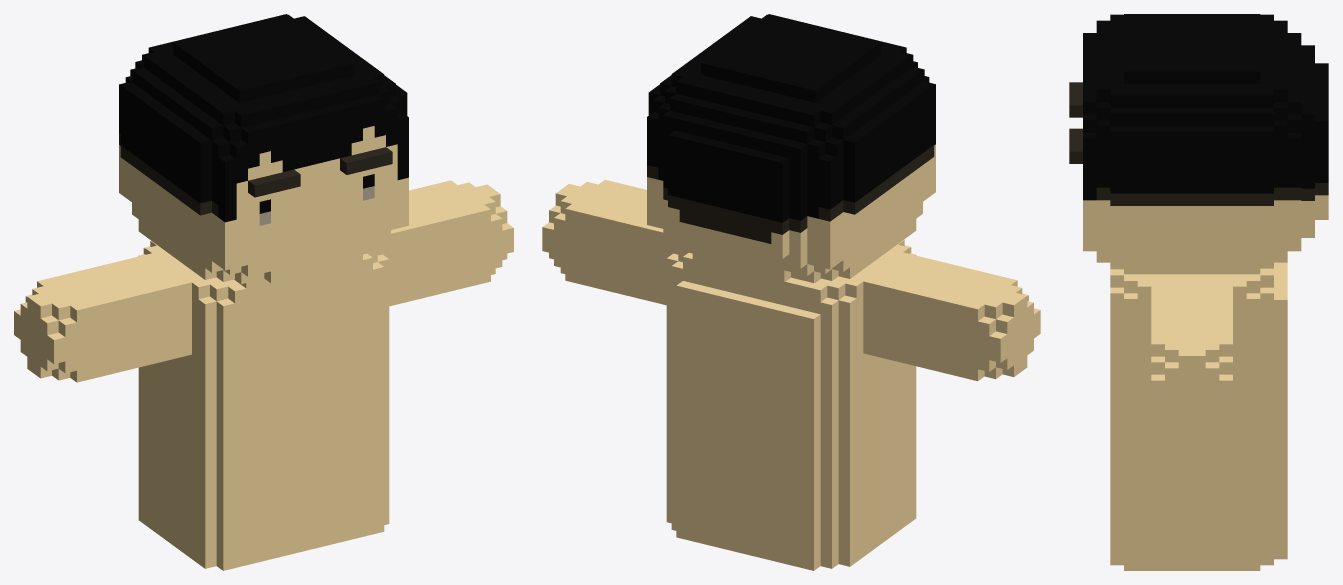
The model's file is saigo.glb.
3 renders of one model, left to right at view 1: azimuth 30°, elevation 25°; view 2: azimuth 150°, elevation 25°; view 3: azimuth 270°, elevation 25°, orthographic. The views are drawn at different scales.
Parts seen in each view (by area): view 1: Untitled; view 2: Untitled; view 3: Untitled.
Boxes of the visible parts, x1=… form: Untitled: x1=14, y1=14, x2=513, y2=570; Untitled: x1=542, y1=14, x2=1040, y2=570; Untitled: x1=1069, y1=14, x2=1328, y2=570.
Bounding box in the file's own units: 4 × 3.9 × 1.9.
1 material, 1 textured.
